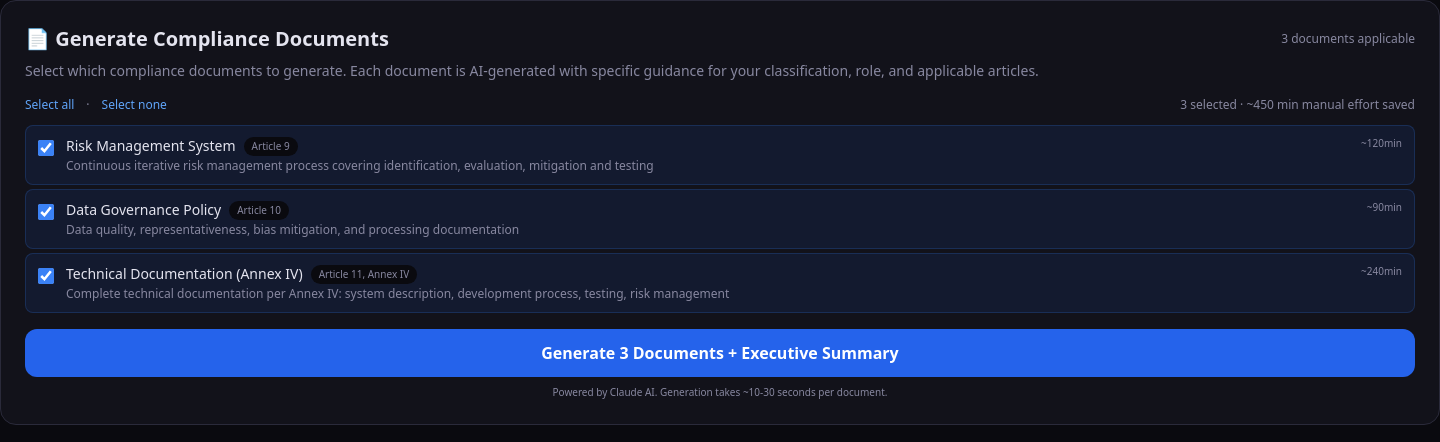
Scenario: L6-DG-I: Idle template selection › DG-I11: generate button singular text for 1 doc
Click the 1st checkbox: (46, 148) 38,140 -> 54,156
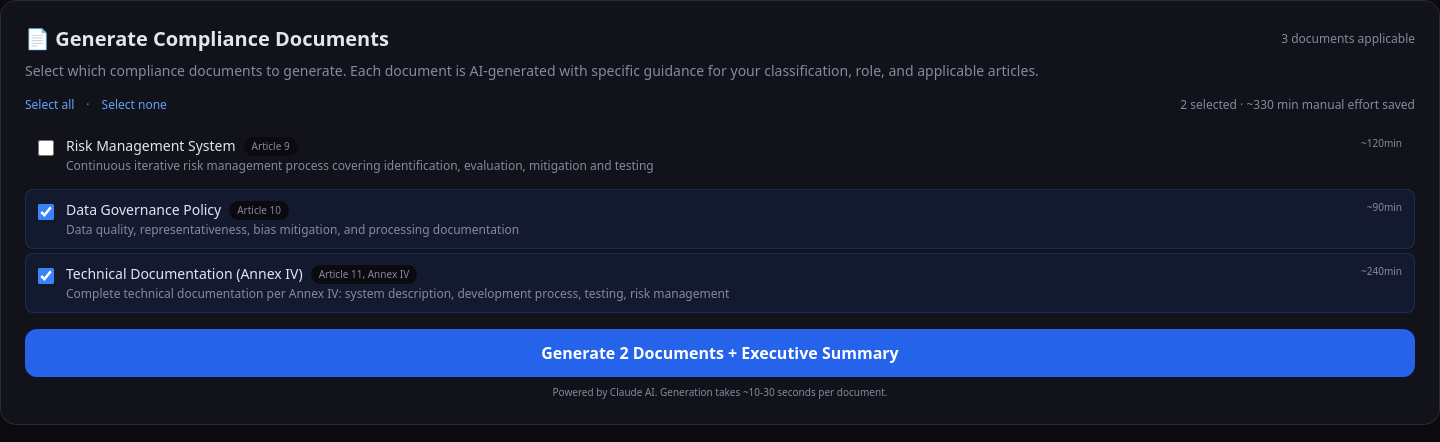
Click the 2nd checkbox: (46, 212) 38,204 -> 54,220
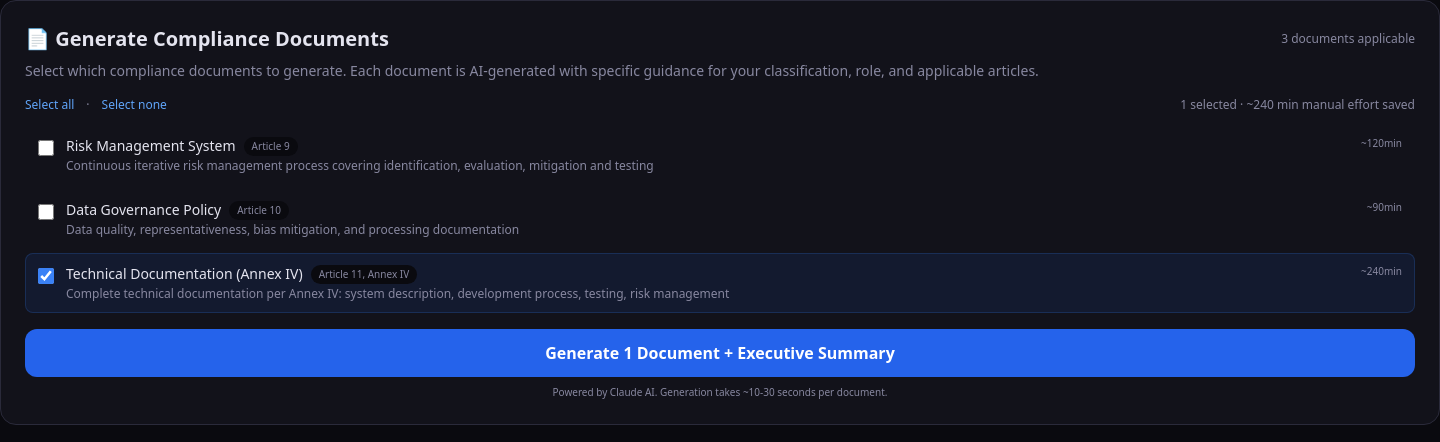
expect the button "Generate 1 Document + Executive Summary" is shown: met, box 25,329 -> 1415,377
